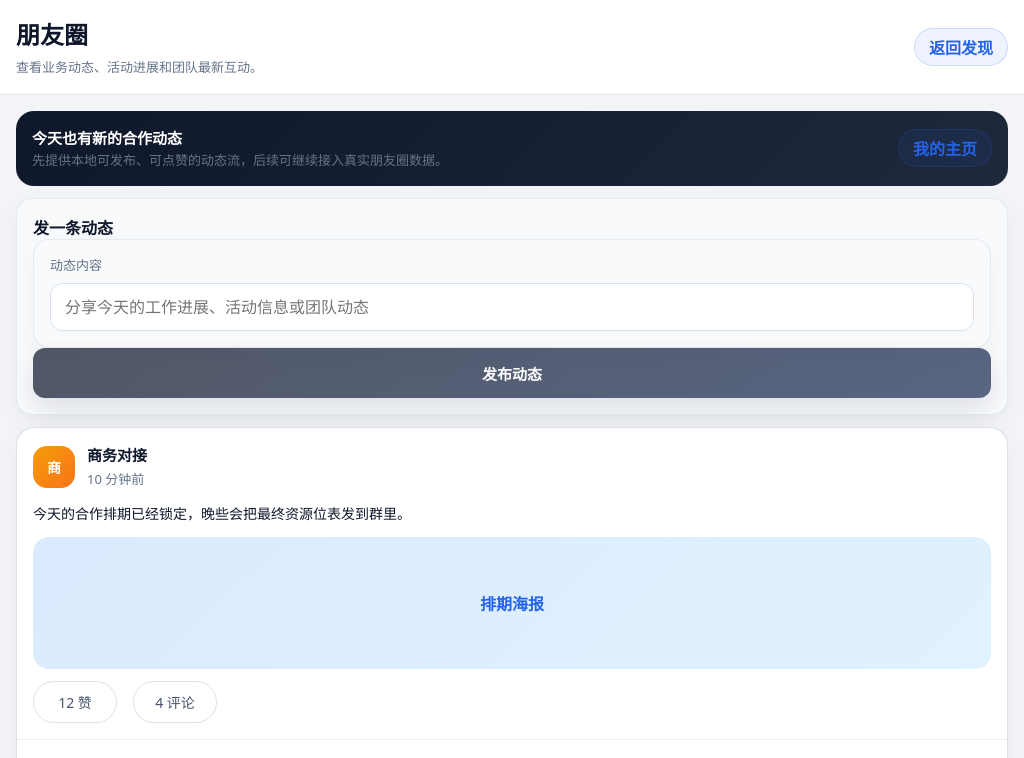
Test: App route entry › publishes and likes a moment locally
Step 1. Type "今天把四个 Tab 的剩余交互补齐了" into the field labelled "动态内容" → (512,307), box [50, 283, 974, 331]
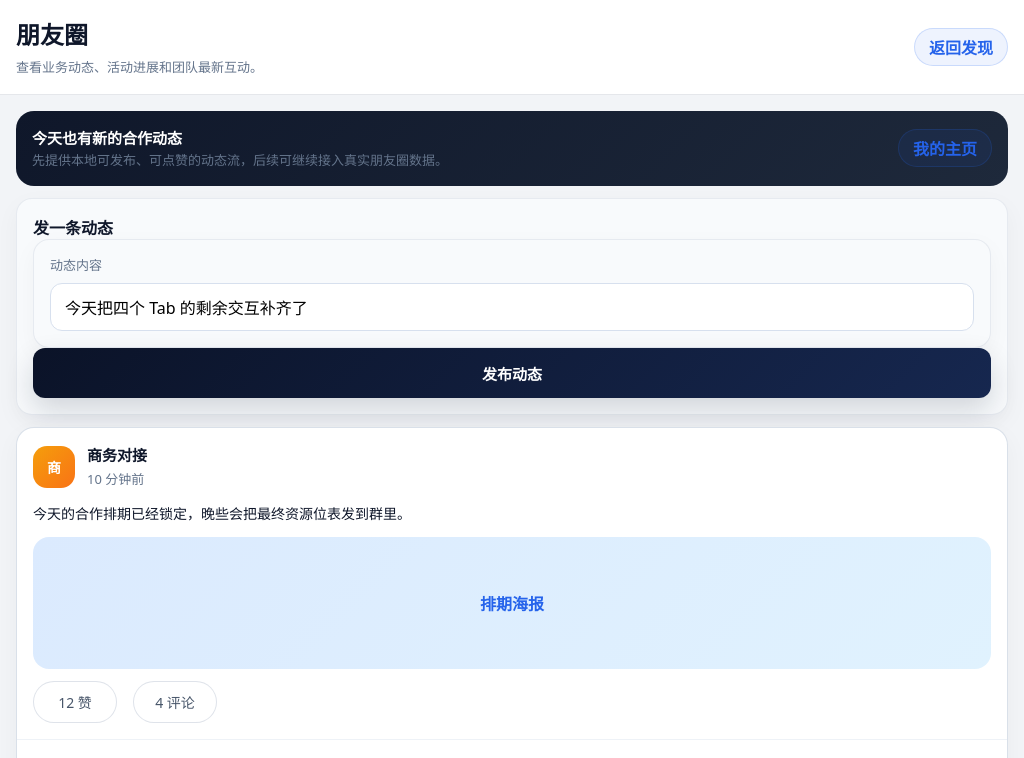
Step 2. Click the button "发布动态" → (512,373), box [33, 348, 991, 398]
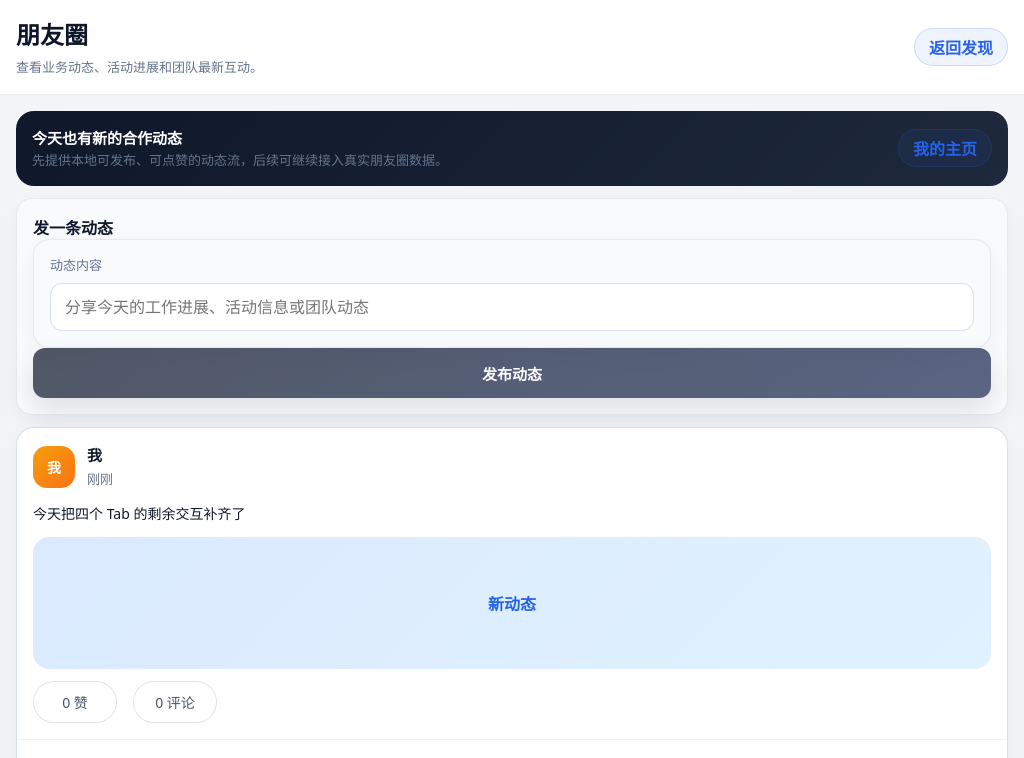
expect the text "今天把四个 Tab 的剩余交互补齐了" is shown: met, box [33, 504, 245, 523]
Step 3. Click the button "0 赞" → (75,702), box [33, 681, 117, 723]
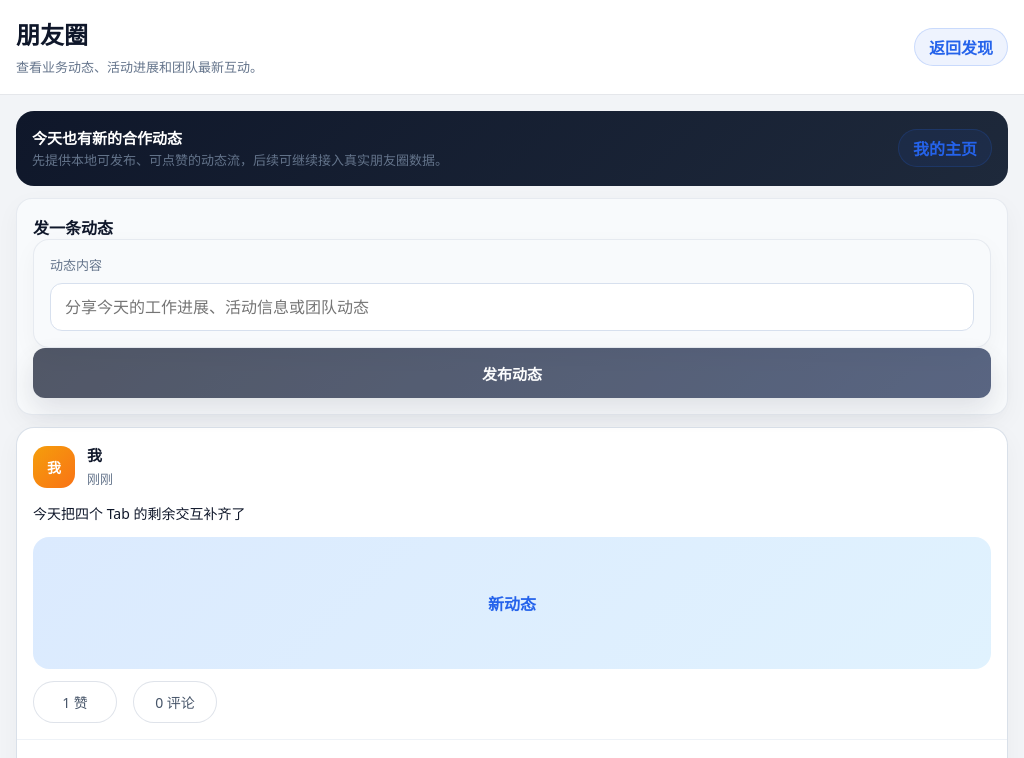
expect the button "1 赞" is shown: met, box [33, 681, 117, 723]
